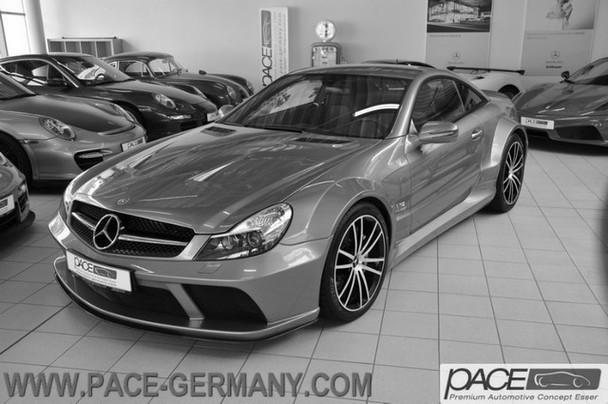car: (47, 60, 530, 344)
